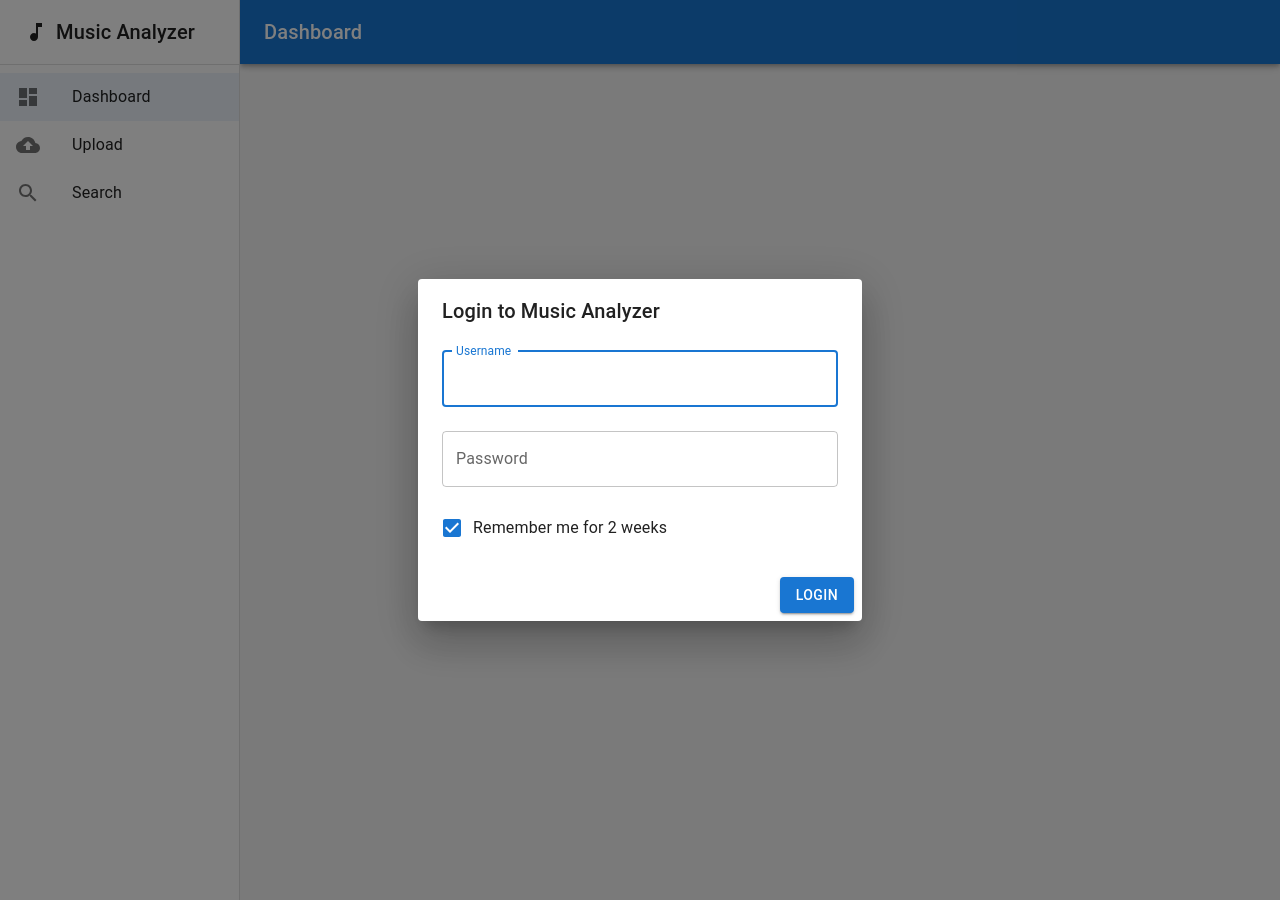
Test: Layout Component › handles login
Type "testuser" into the field labelled "Username" at {"x": 640, "y": 379}, box left=442, top=351, right=838, bottom=407
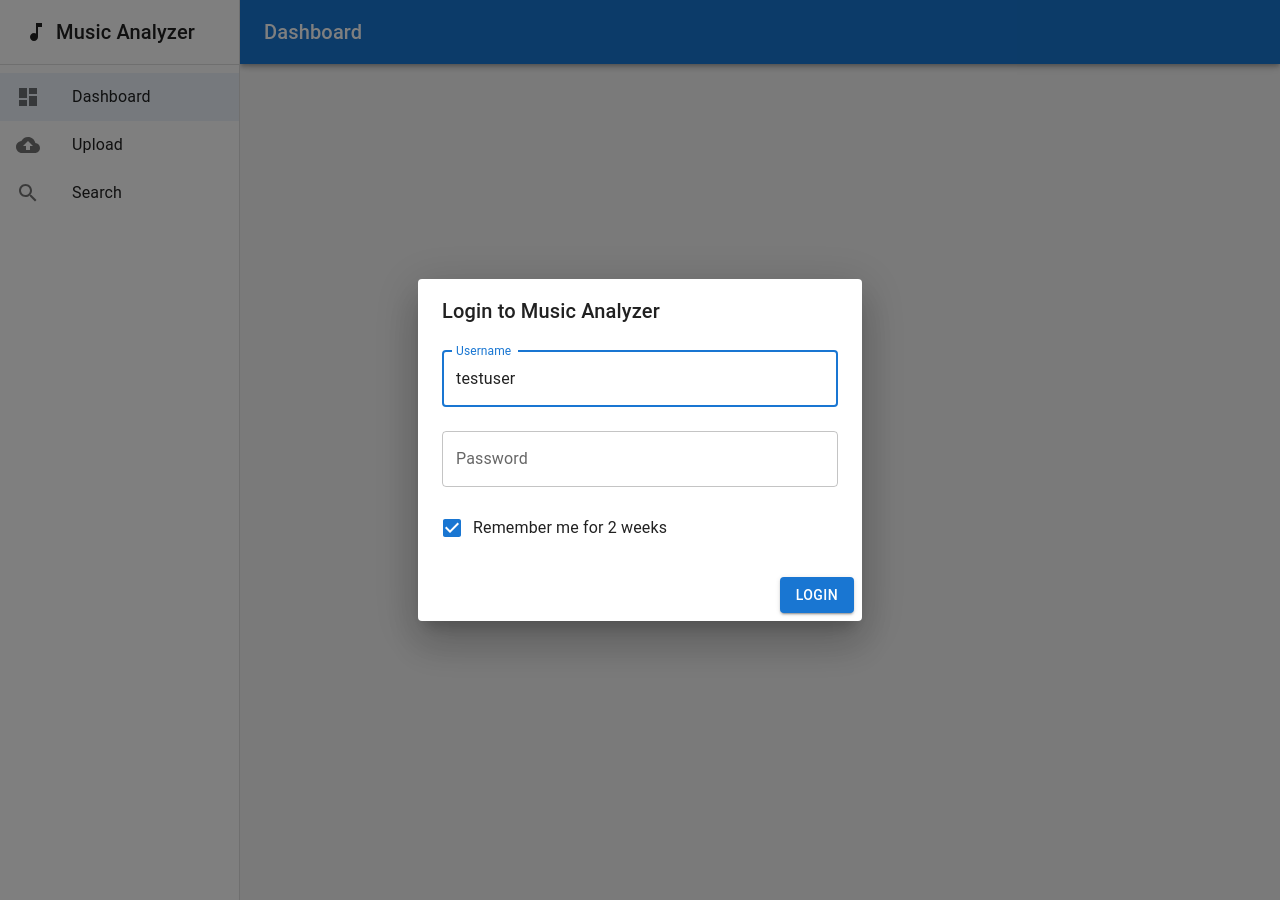
Type "testpass" into the password field labelled "Password" at {"x": 640, "y": 459}, box left=442, top=431, right=838, bottom=487
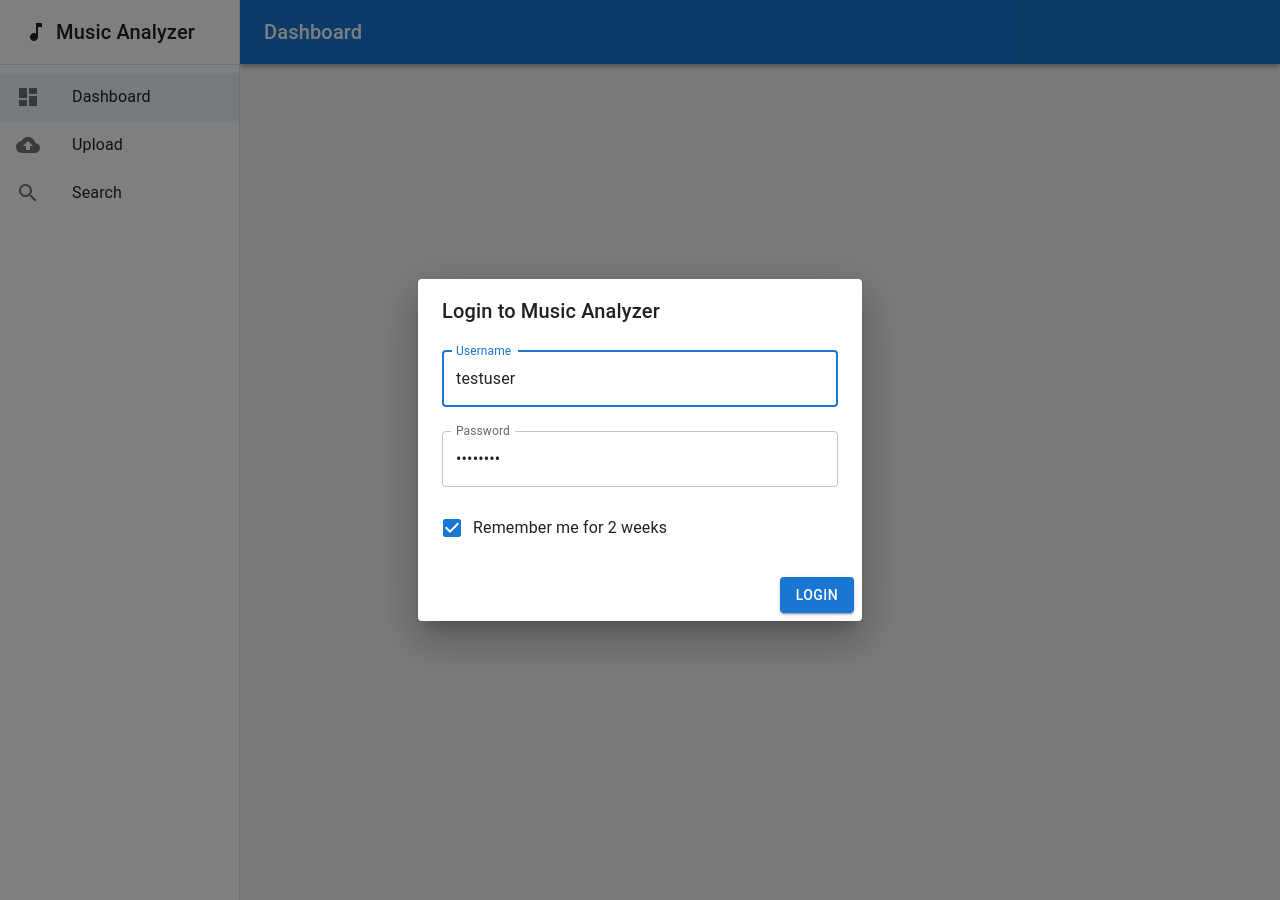
Click the button "Login" at {"x": 817, "y": 595}, box left=780, top=577, right=854, bottom=613
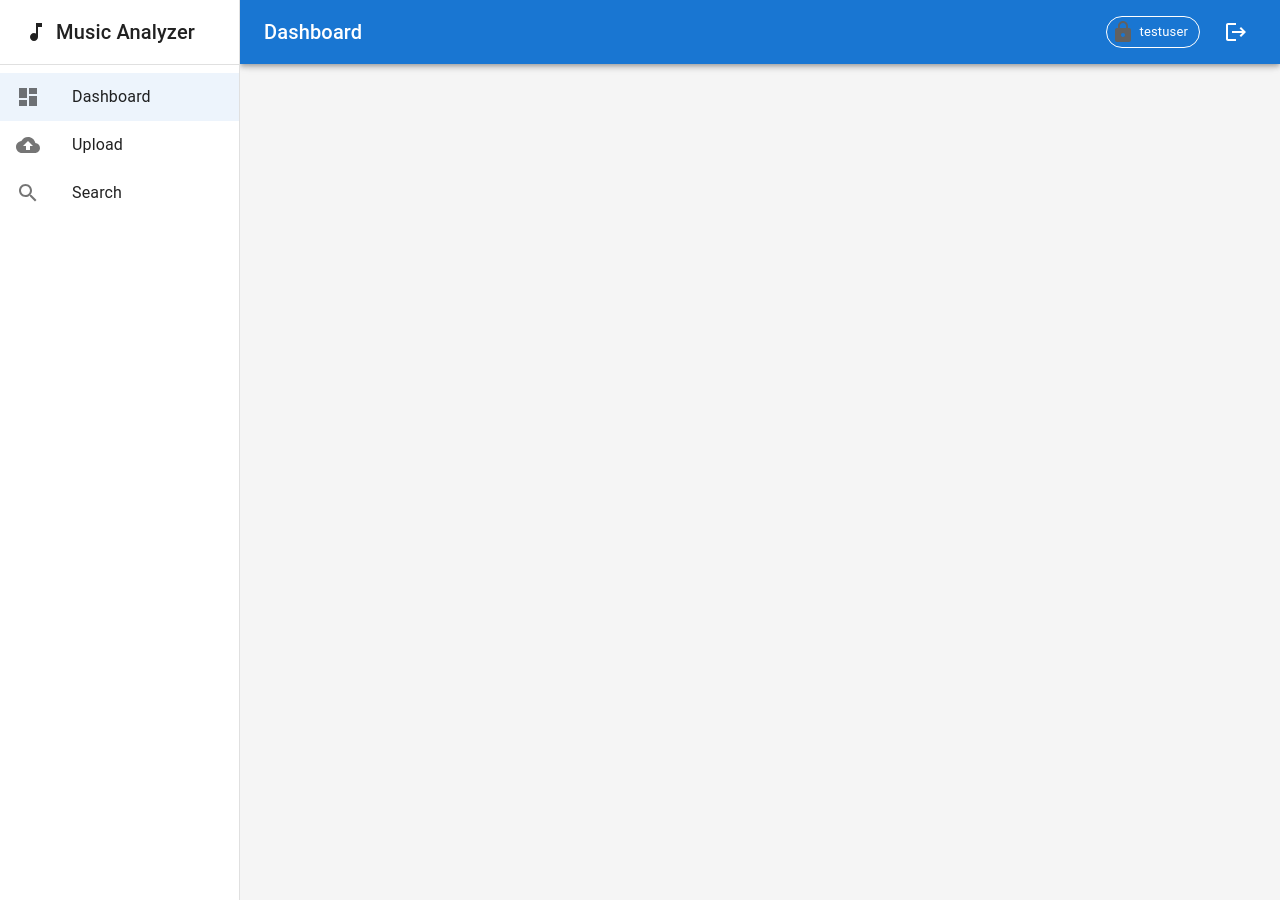
Now the heading "Login to Music Analyzer" is gone
